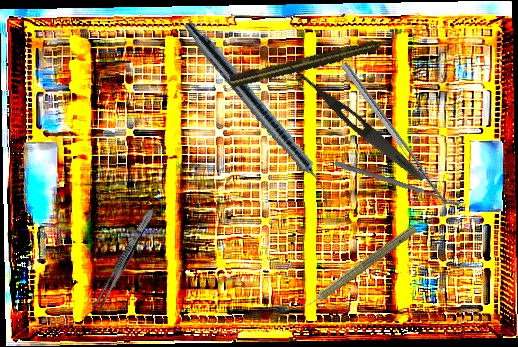Dressing Forceps: (281, 58, 429, 186), (91, 205, 158, 314)
Handpiece: (177, 17, 342, 208), (295, 220, 420, 316), (228, 32, 398, 90)
Spatula Surgical: (340, 57, 460, 214)
Surgical Spoon: (333, 160, 463, 208)
